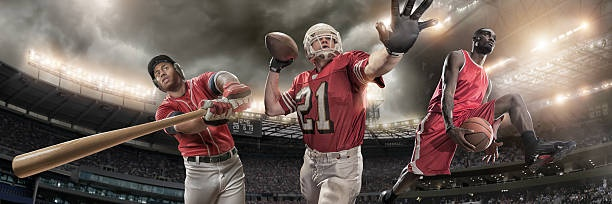bita: (13, 109, 207, 180)
